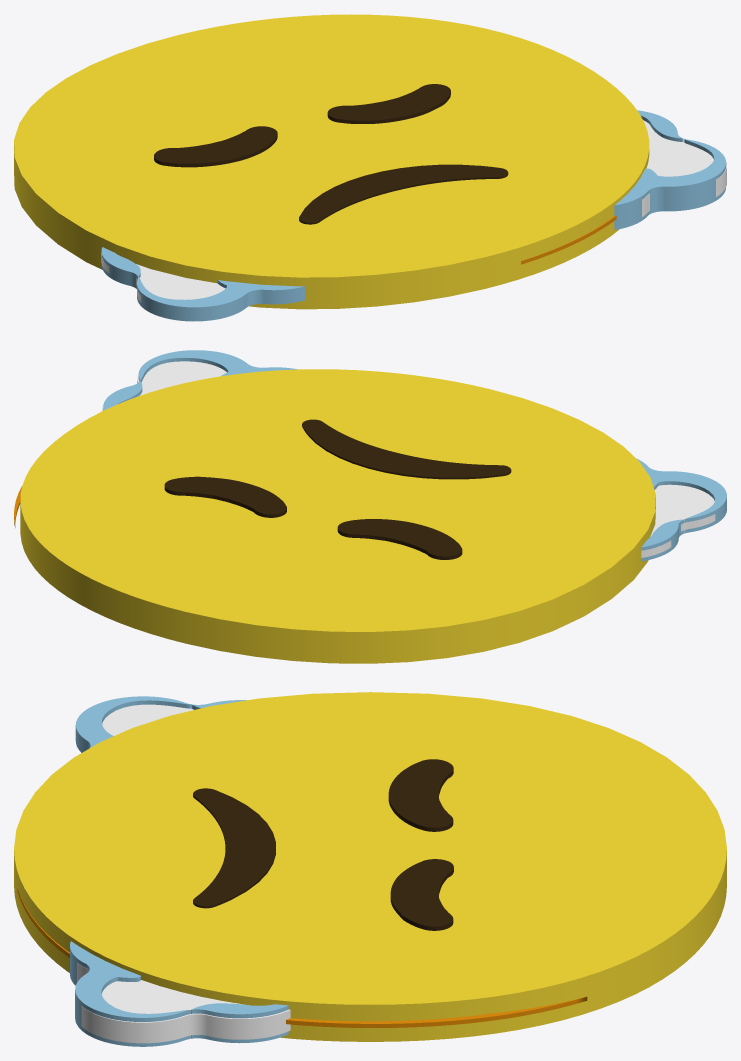
The model's file is emoji_u1f624.glb.
3 views of the same model, one above another, from view 1: azimuth 30°, elevation 25°; view 2: azimuth 150°, elevation 25°; view 3: azimuth 270°, elevation 25° (orthographic). The views are drawn at different scales.
Visible parts, largest first — view 1: emoji_u1f624; view 2: emoji_u1f624; view 3: emoji_u1f624.
Boxes of the visible parts, <box> form: emoji_u1f624: <box>14,14,726,321</box>; emoji_u1f624: <box>14,350,726,663</box>; emoji_u1f624: <box>14,692,726,1046</box>.
Bounding box in the file's own units: 0.0341 × 0.0022 × 0.0313.
